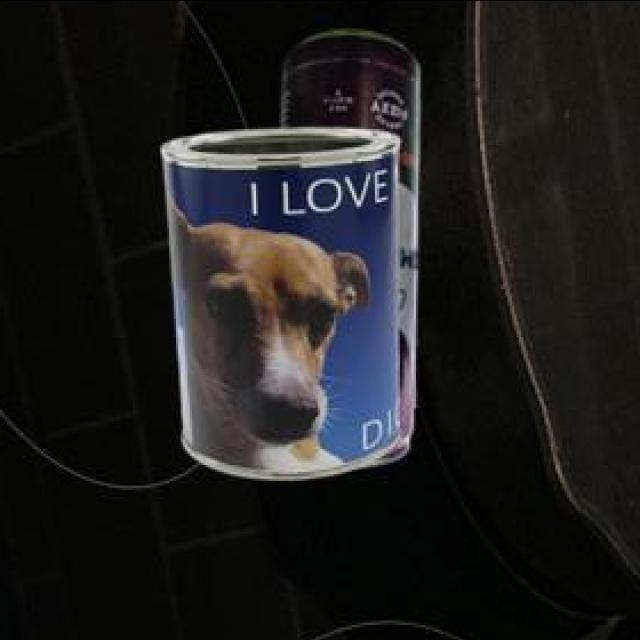logam: (166, 125, 403, 474), (285, 26, 424, 463)
